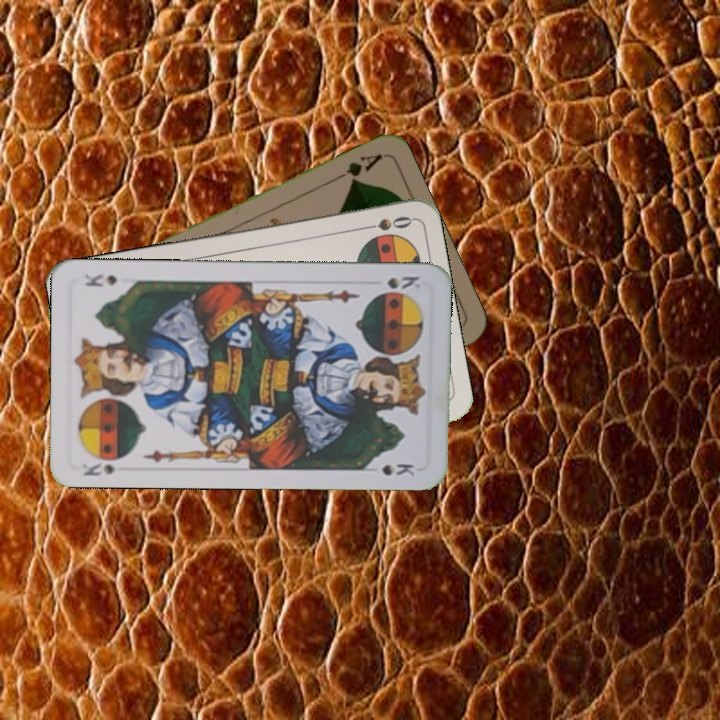GA: (330, 149, 385, 187)
SK: (78, 458, 117, 479), (383, 272, 423, 292)
SO: (355, 212, 415, 234)
